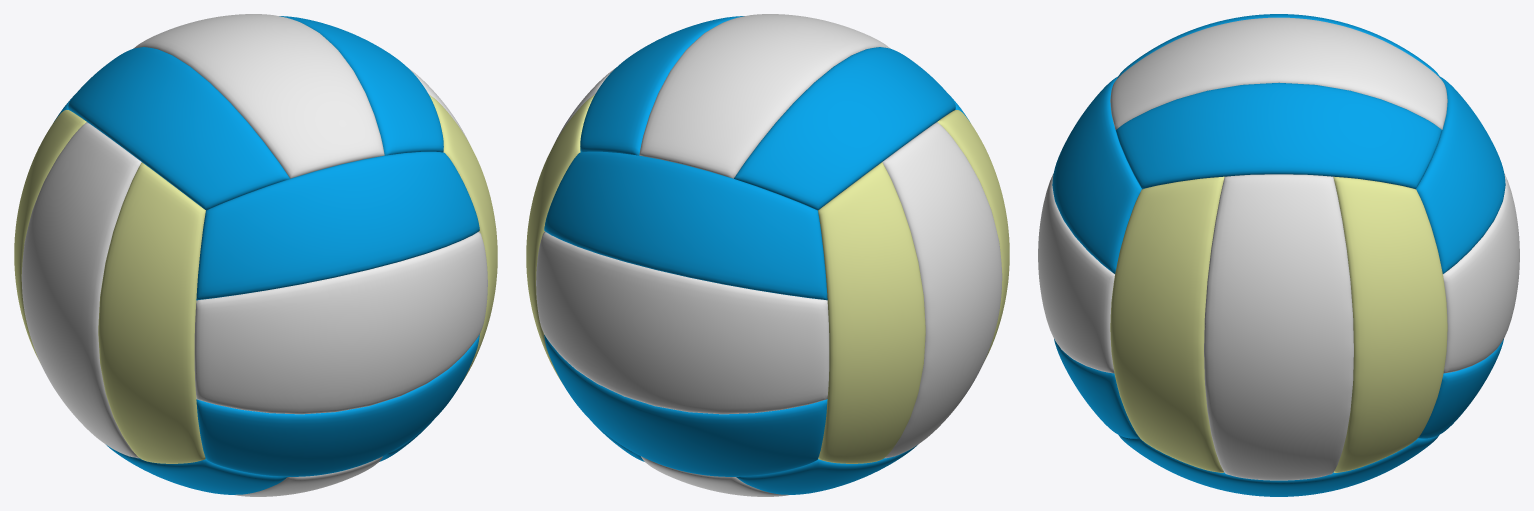
File: ball.glb
The picture shows the model from 3 angles, left to right: view 1: azimuth 30°, elevation 25°; view 2: azimuth 150°, elevation 25°; view 3: azimuth 270°, elevation 25°; orthographic projection.
Visible parts, largest first — view 1: Cube_0; view 2: Cube_0; view 3: Cube_0.
Part boxes in pixels (box(x1,y1,x2,y2)): Cube_0: box(14, 14, 497, 496); Cube_0: box(526, 14, 1009, 496); Cube_0: box(1038, 14, 1519, 496).
Bounding box in the file's own units: 2.59 × 2.59 × 2.59.
